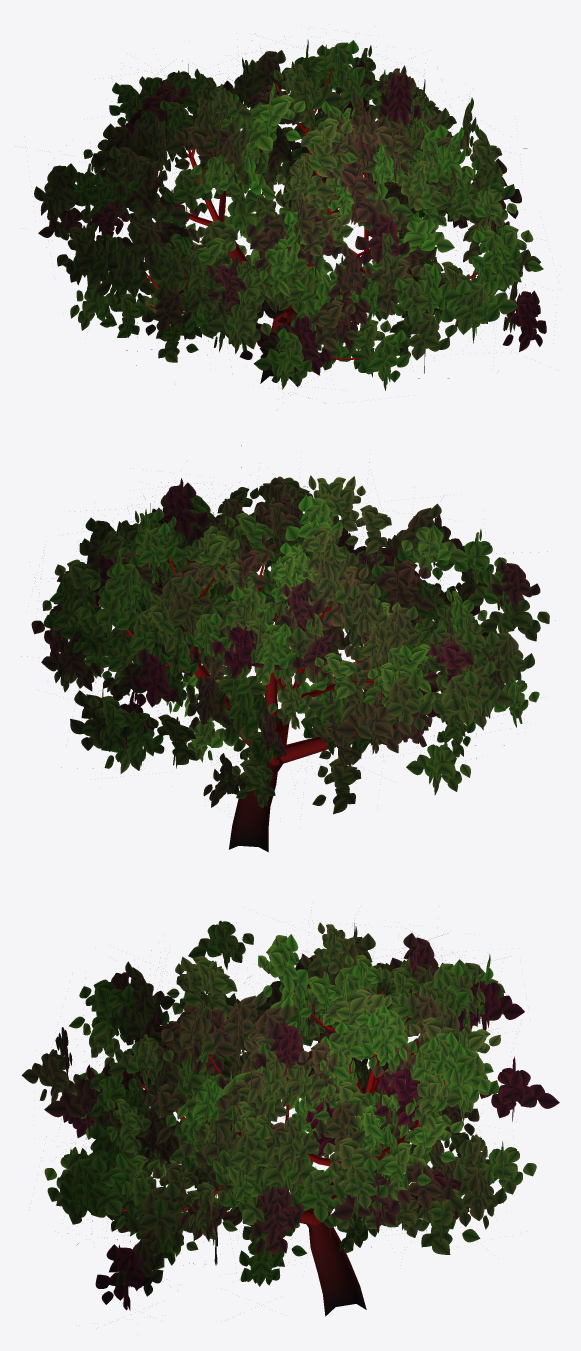
The model's file is beech_c.glb.
3 views of the same model, one above another, from view 1: azimuth 30°, elevation 25°; view 2: azimuth 150°, elevation 25°; view 3: azimuth 270°, elevation 25° (orthographic). The views are drawn at different scales.
Parts seen in each view (by area): view 1: Beech_C; view 2: Beech_C; view 3: Beech_C.
Part boxes in pixels (x1,y1,x2,y2): Beech_C: [34, 33, 558, 397]; Beech_C: [21, 445, 555, 852]; Beech_C: [21, 910, 559, 1316].
Size of the model in its own units: 14.4 by 10.22 by 13.66.
1 material, 1 textured.
